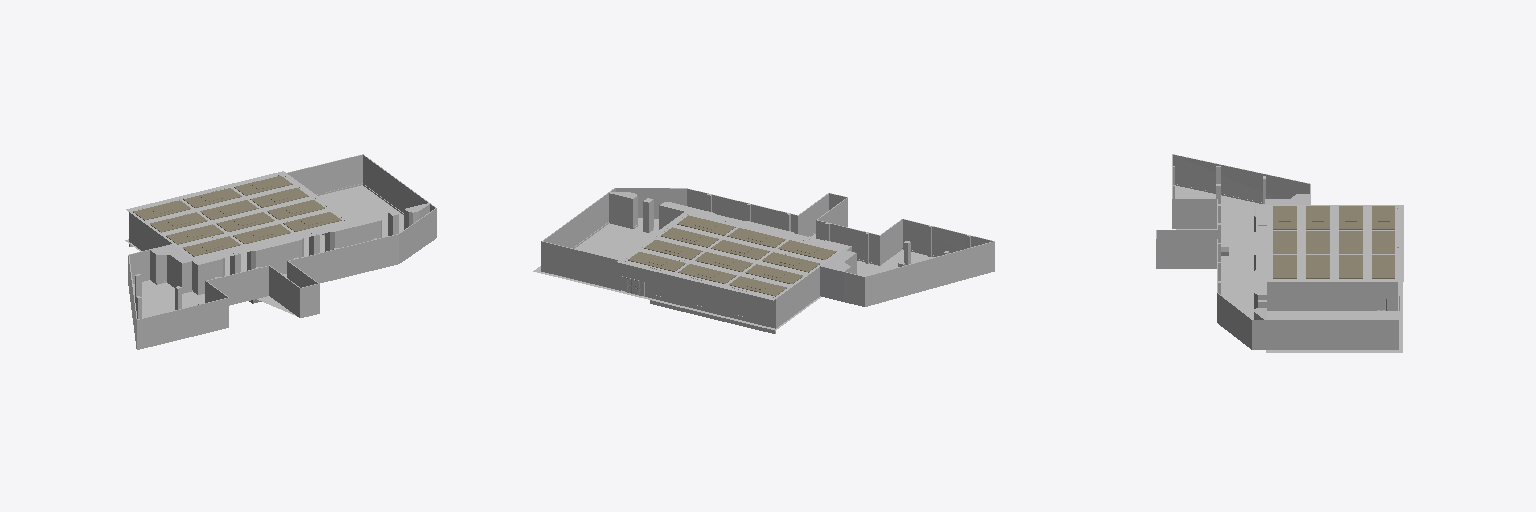
File: conference-new.obj
3 renders of one model, left to right at view 1: azimuth 30°, elevation 25°; view 2: azimuth 150°, elevation 25°; view 3: azimuth 270°, elevation 25°, orthographic.
Parts seen in each view (by area): view 1: Polygon_4_Untitled.028, tavan_Untitled.099, Polygon_1_Untitled.047, arka_duvar_1_Untitled.096, Polygon_Untitled.022, Box075_6_Untitled.005, Box075_4_Untitled.043, Box075_2_Untitled.125, Box075_12_Untitled.065, Box075_11_Untitled.016, Box075_8_Untitled.064, Box075_5_Untitled.122 (+6 smaller); view 2: Polygon_4_Untitled.028, Polygon_Untitled.022, tavan_Untitled.099, Polygon_1_Untitled.047, Polygon_2_Untitled.113, Cube_13_2_Untitled.002, Polygon_3_Untitled.134, arka_duvar_1_Untitled.096, Box075_12_Untitled.065, Box075_10_Untitled.023, Box075_3_Untitled.035, Box075_11_Untitled.016 (+8 smaller); view 3: Polygon_4_Untitled.028, Polygon_1_Untitled.047, tavan_Untitled.099, Cube.001_Untitled.017, Box075_12_Untitled.065, Box075_11_Untitled.016, Box075_10_Untitled.023, Box075_4_Untitled.043, Box075_3_Untitled.035, Box075_2_Untitled.125, Box075_9_Untitled.061, Box075_8_Untitled.064 (+5 smaller).
Boxes of the visible parts, x1,y1,x2,y2 form: Polygon_4_Untitled.028: [128, 154, 436, 349]; tavan_Untitled.099: [126, 171, 356, 263]; Polygon_1_Untitled.047: [125, 185, 403, 317]; arka_duvar_1_Untitled.096: [135, 215, 381, 318]; Polygon_Untitled.022: [129, 212, 224, 294]; Box075_6_Untitled.005: [200, 200, 258, 219]; Box075_4_Untitled.043: [183, 236, 240, 256]; Box075_2_Untitled.125: [150, 212, 207, 232]; Box075_12_Untitled.065: [283, 212, 341, 231]; Box075_11_Untitled.016: [267, 200, 324, 219]; Box075_8_Untitled.064: [233, 224, 290, 243]; Box075_5_Untitled.122: [183, 188, 241, 207]; Polygon_4_Untitled.028: [541, 188, 994, 306]; Polygon_Untitled.022: [627, 247, 851, 328]; tavan_Untitled.099: [617, 208, 847, 300]; Polygon_1_Untitled.047: [533, 218, 934, 330]; Polygon_2_Untitled.113: [608, 192, 855, 301]; Cube_13_2_Untitled.002: [650, 294, 775, 333]; Polygon_3_Untitled.134: [707, 194, 970, 263]; arka_duvar_1_Untitled.096: [659, 202, 948, 266]; Box075_12_Untitled.065: [677, 215, 735, 235]; Box075_10_Untitled.023: [644, 240, 702, 259]; Box075_3_Untitled.035: [762, 252, 819, 272]; Box075_11_Untitled.016: [661, 227, 718, 247]; Polygon_4_Untitled.028: [1156, 154, 1398, 349]; Polygon_1_Untitled.047: [1175, 185, 1402, 352]; tavan_Untitled.099: [1256, 205, 1403, 281]; Cube.001_Untitled.017: [1266, 280, 1397, 310]; Box075_12_Untitled.065: [1273, 255, 1296, 278]; Box075_11_Untitled.016: [1306, 255, 1329, 278]; Box075_10_Untitled.023: [1339, 255, 1362, 278]; Box075_4_Untitled.043: [1273, 206, 1296, 229]; Box075_3_Untitled.035: [1306, 206, 1329, 229]; Box075_2_Untitled.125: [1339, 206, 1362, 229]; Box075_9_Untitled.061: [1372, 255, 1394, 278]; Box075_8_Untitled.064: [1273, 231, 1296, 253].
Bounding box in the file's own units: 77.76 × 7.86 × 48.36.